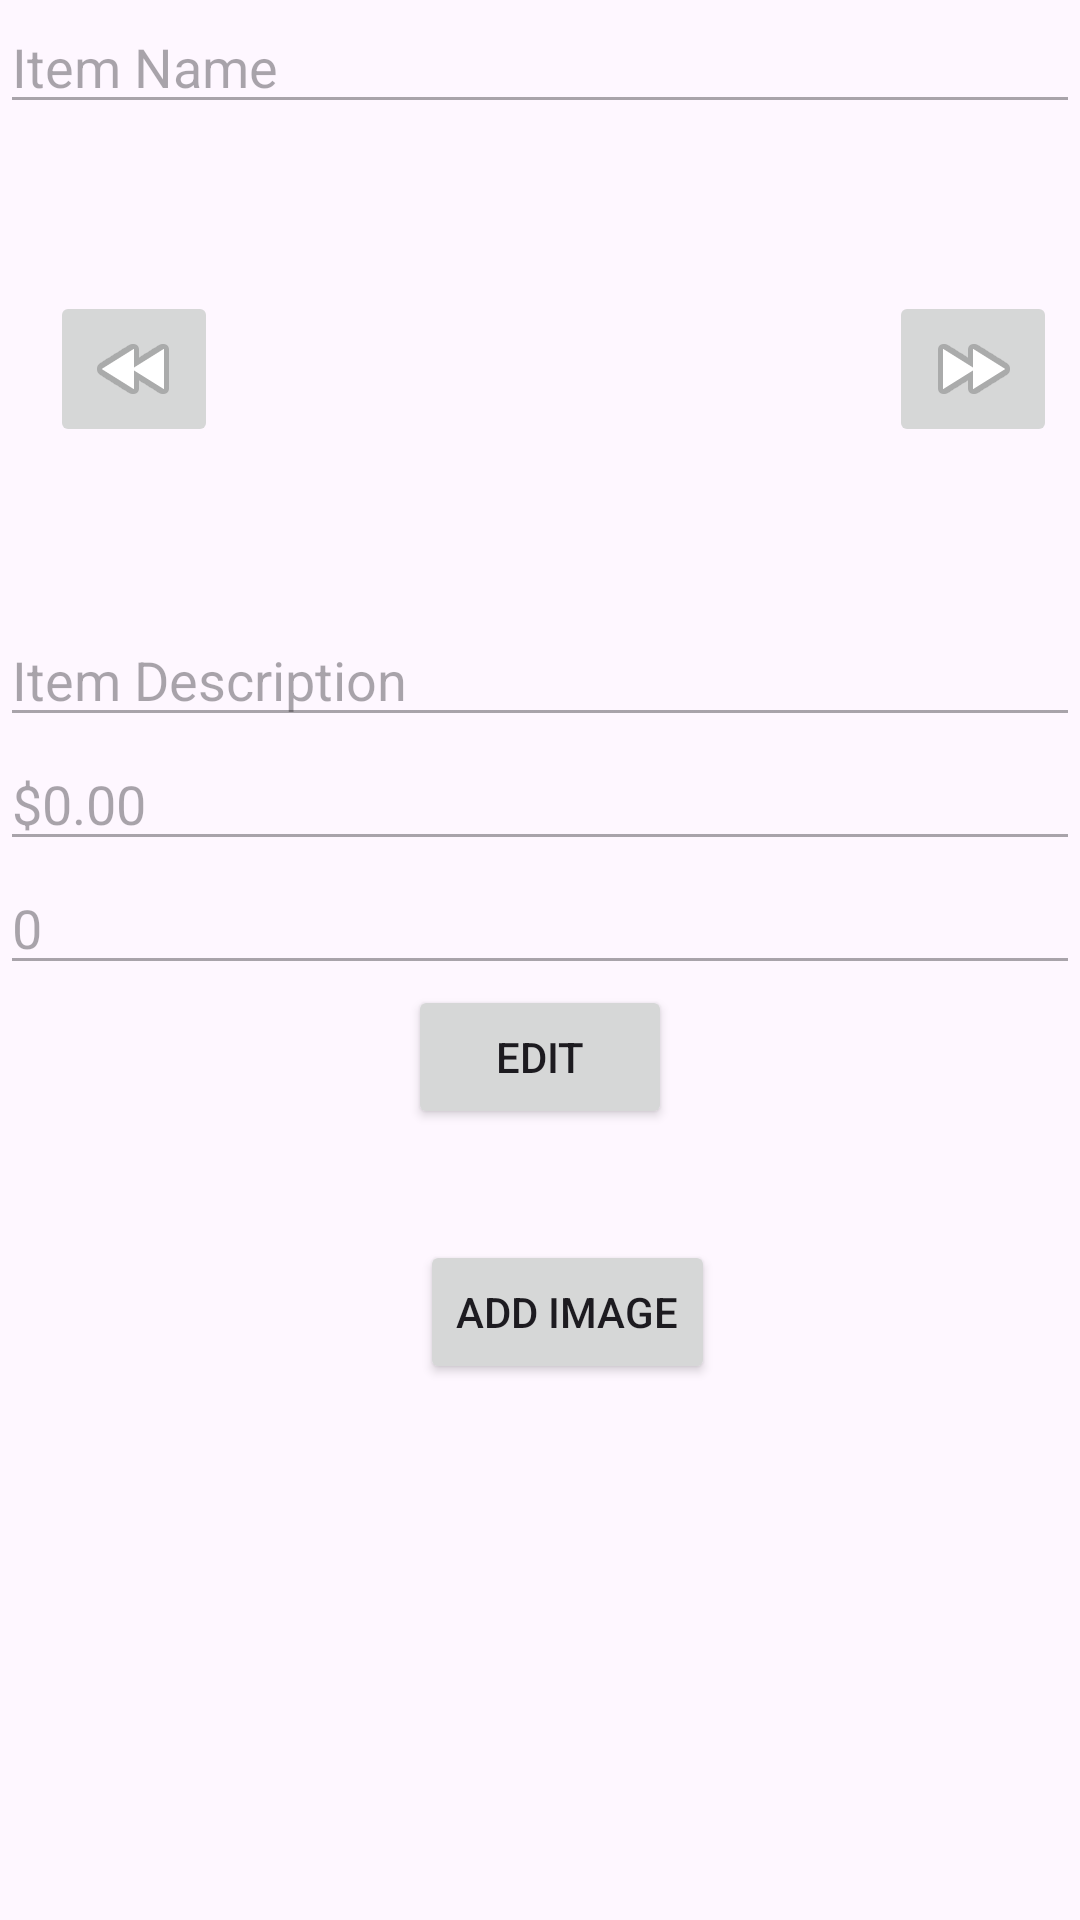

Icon click points for this 1080x1920 phone screenshot, format point (x, y):
rew: point (134, 369)
